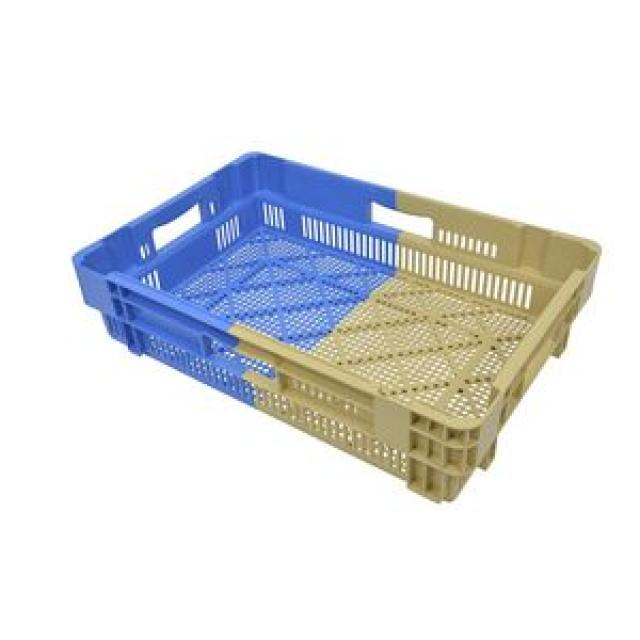basket: (47, 45, 613, 521)
